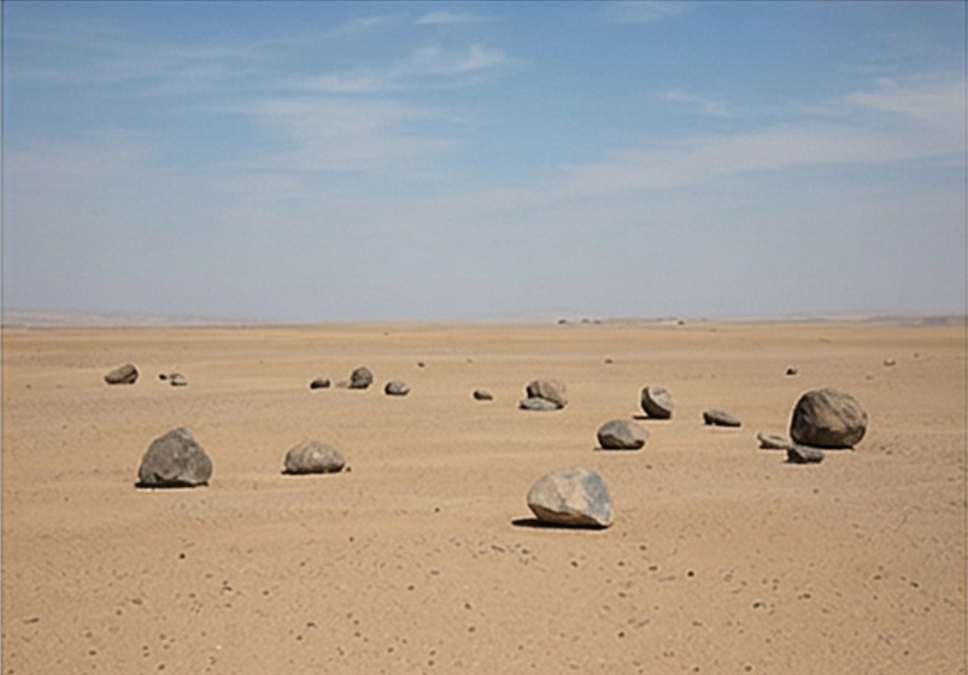rocks: (775, 388, 865, 461), (527, 468, 613, 527), (138, 428, 212, 486), (283, 441, 345, 474), (598, 419, 649, 450), (643, 387, 673, 418), (703, 411, 739, 425)
